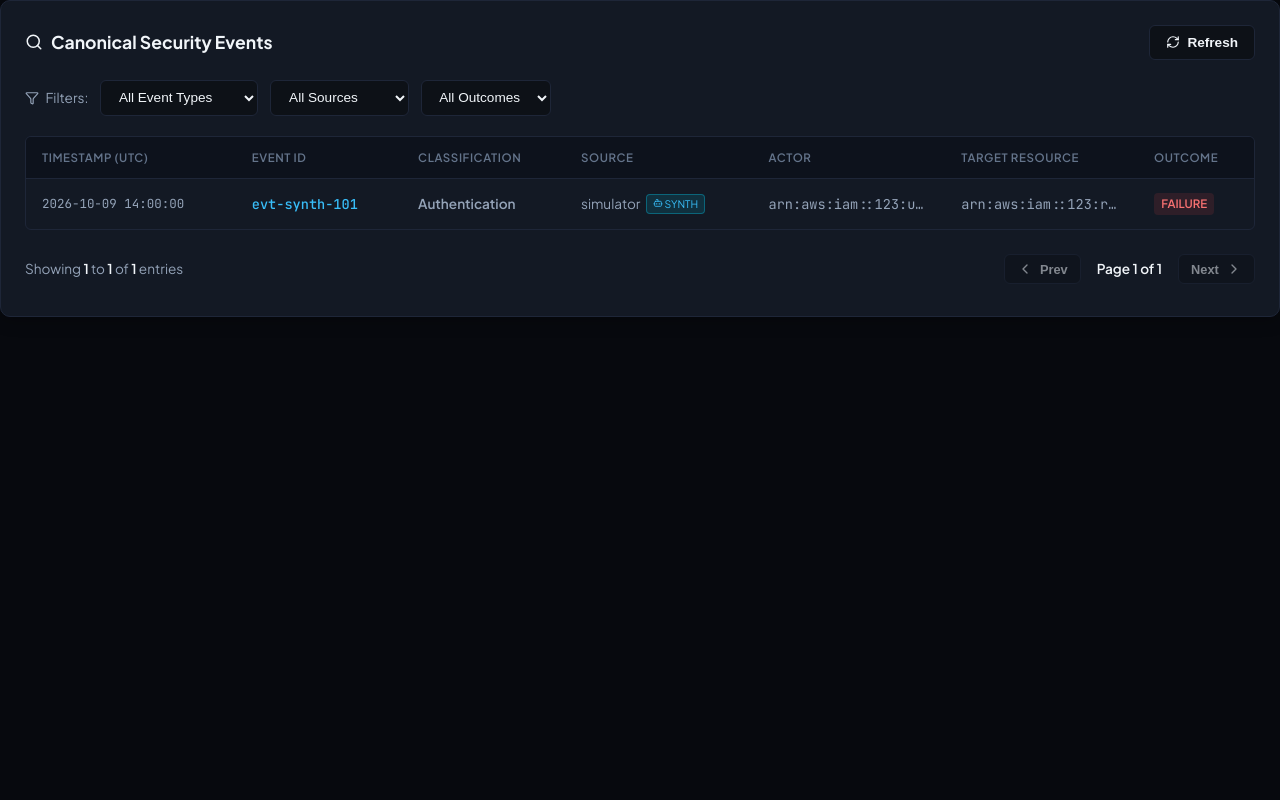
it: Events and Alerts Components › EventsTable renders security events and marks synthetic ones
expect the text "SYNTH" is shown: met, box [646,194,705,214]
expect the text "evt-synth-101" is shown: met, box [236,179,402,229]
// Click row to open detail drawer
Step 1. Click the row with test id "event-row-evt-synth-101" → click(640, 204), box [26,179,1254,229]
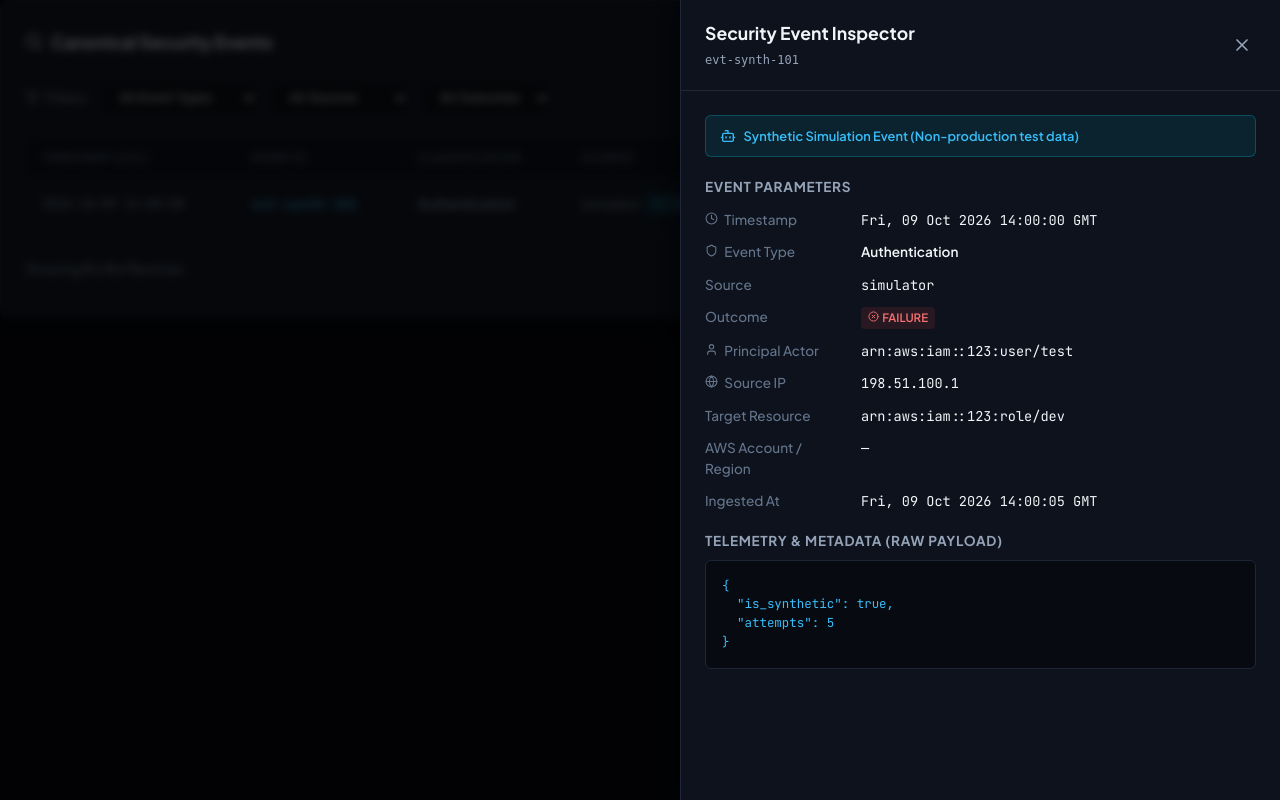
expect the text "Synthetic Simulation Event (Non-production test data)" is shown: met, box [705,115,1256,157]
